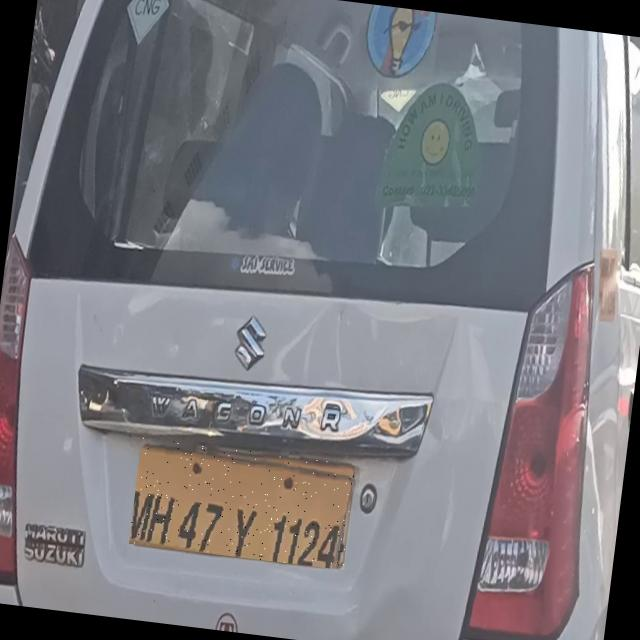Plate: (130, 438, 358, 571)
